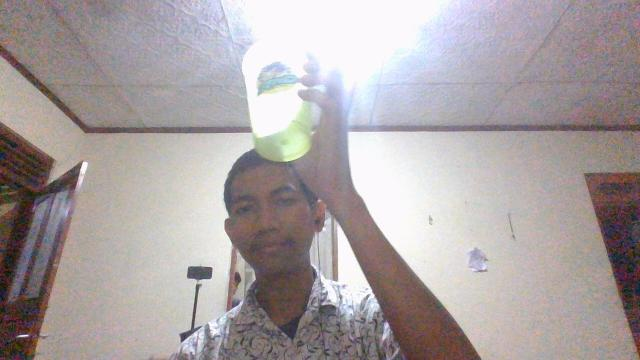botol-hijau: (241, 38, 321, 160)
